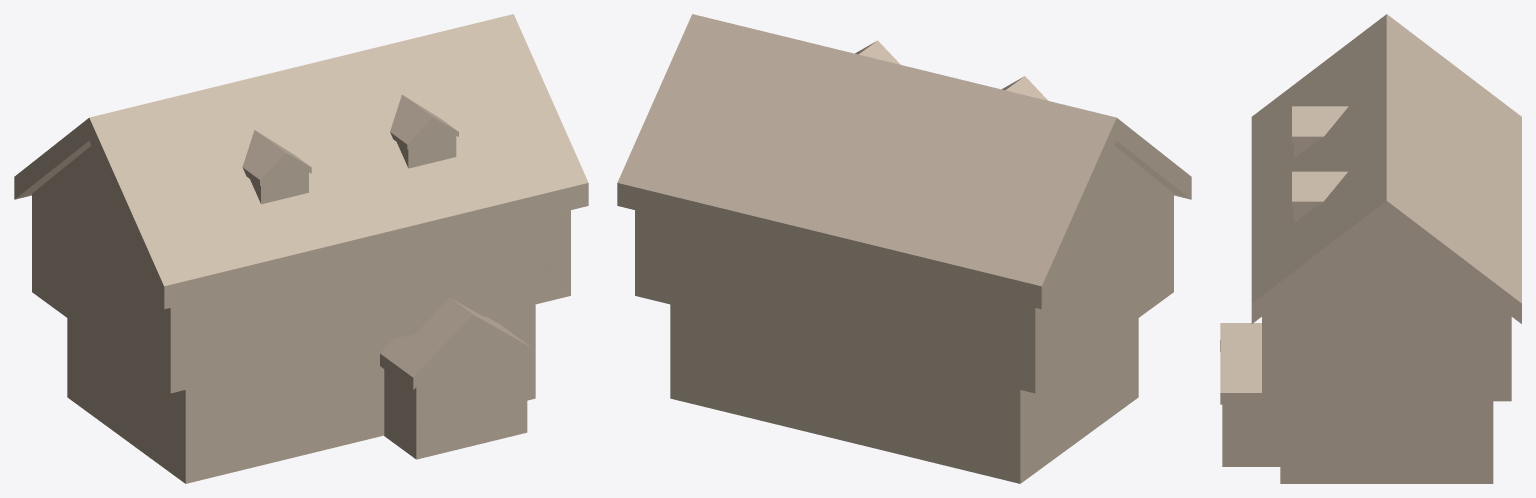
The model's file is m_bldg.glb.
3 views of the same model, side by side, from view 1: azimuth 30°, elevation 25°; view 2: azimuth 150°, elevation 25°; view 3: azimuth 270°, elevation 25° (orthographic). The views are drawn at different scales.
Visible parts, largest first — view 1: bldg; view 2: bldg; view 3: bldg.
Part boxes in pixels (x1,y1,x2,y2): bldg: (14,14,588,483); bldg: (617,14,1191,483); bldg: (1220,14,1521,483).
Bounding box in the file's own units: 21.34 × 16 × 14.57.
